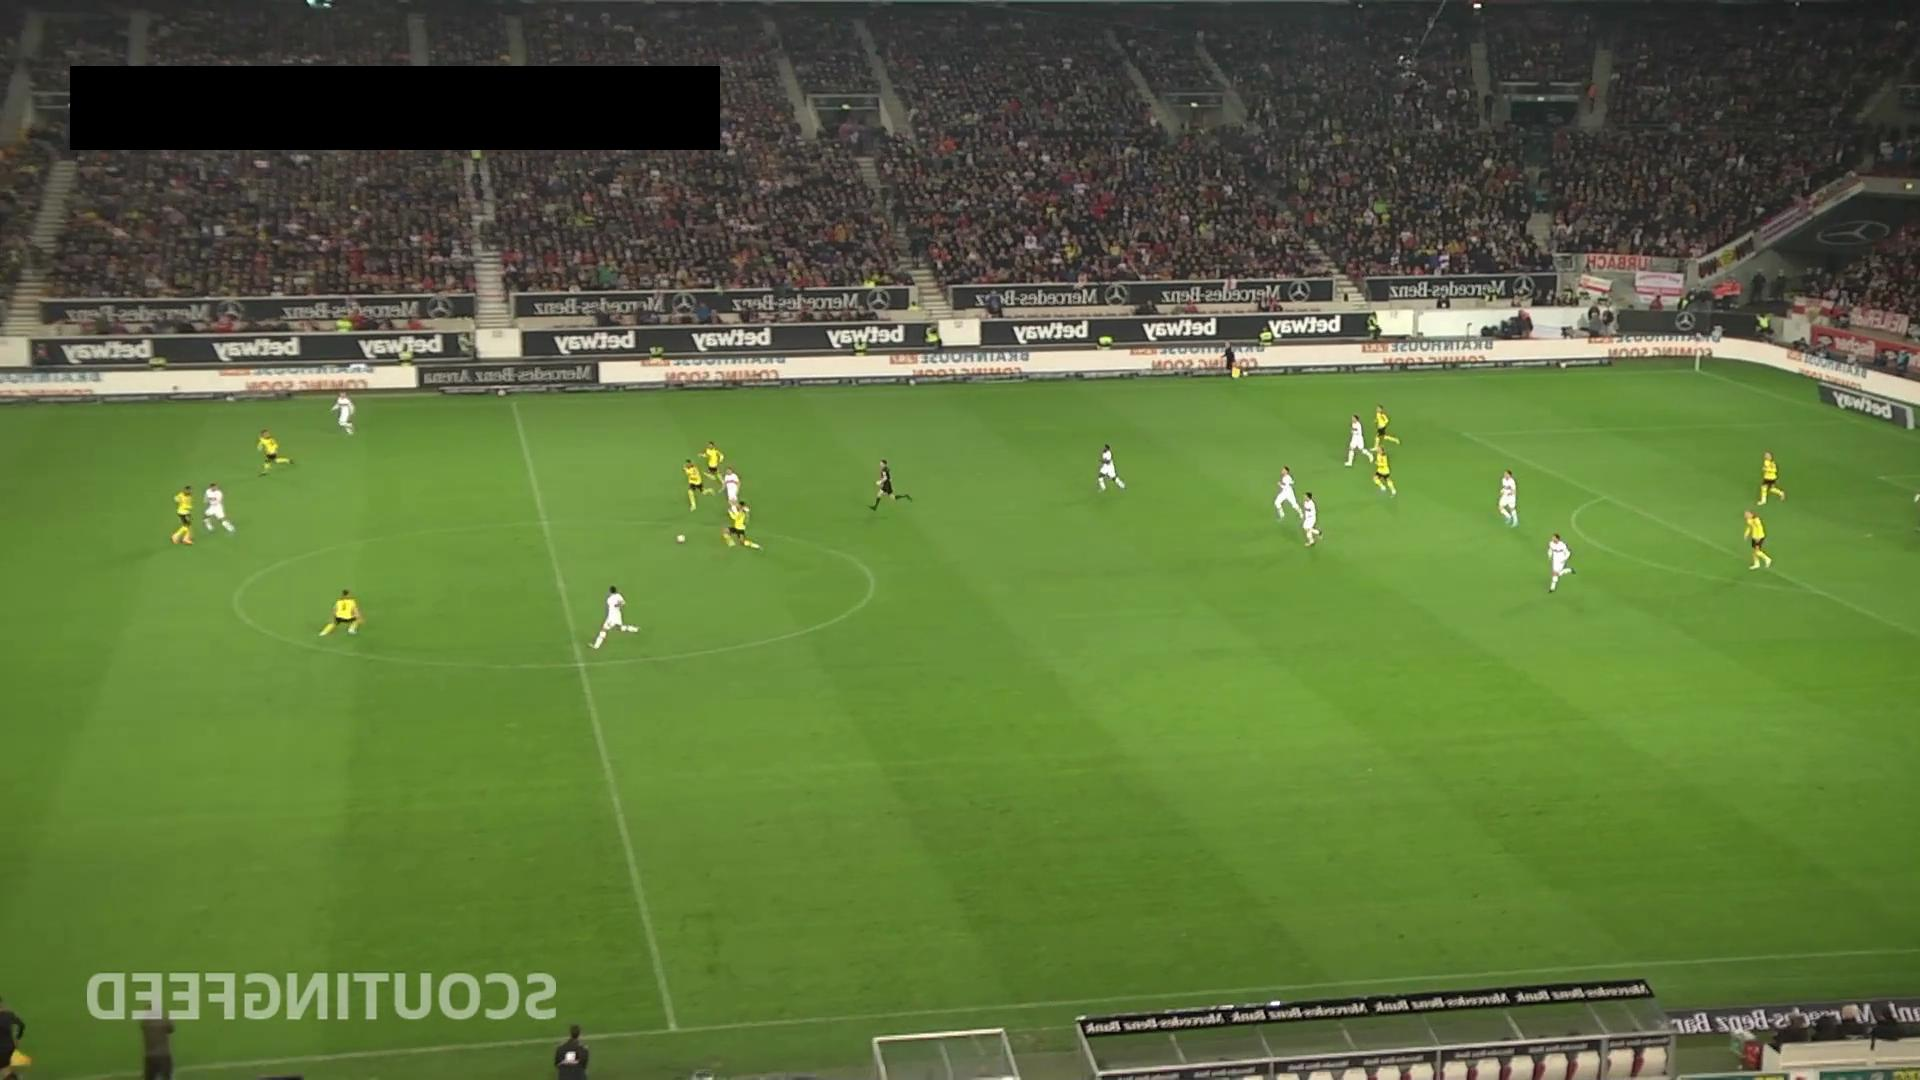ball: (675, 532, 687, 544)
player: (586, 584, 640, 654), (317, 588, 363, 638), (722, 501, 763, 553), (255, 428, 296, 480), (199, 481, 236, 534), (1742, 509, 1772, 570), (1546, 533, 1575, 593), (683, 458, 714, 514), (1273, 466, 1303, 522), (1343, 414, 1374, 468), (1095, 443, 1128, 493), (1369, 403, 1401, 452), (1758, 450, 1786, 505), (697, 440, 727, 491), (171, 484, 194, 545), (717, 467, 745, 517), (1372, 446, 1398, 499), (1301, 491, 1325, 548), (1497, 469, 1519, 527), (328, 391, 355, 437)
referee: (867, 458, 912, 515), (1220, 340, 1241, 381)
